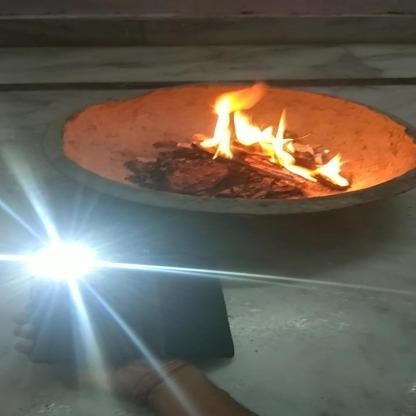fire: (204, 82, 352, 188)
